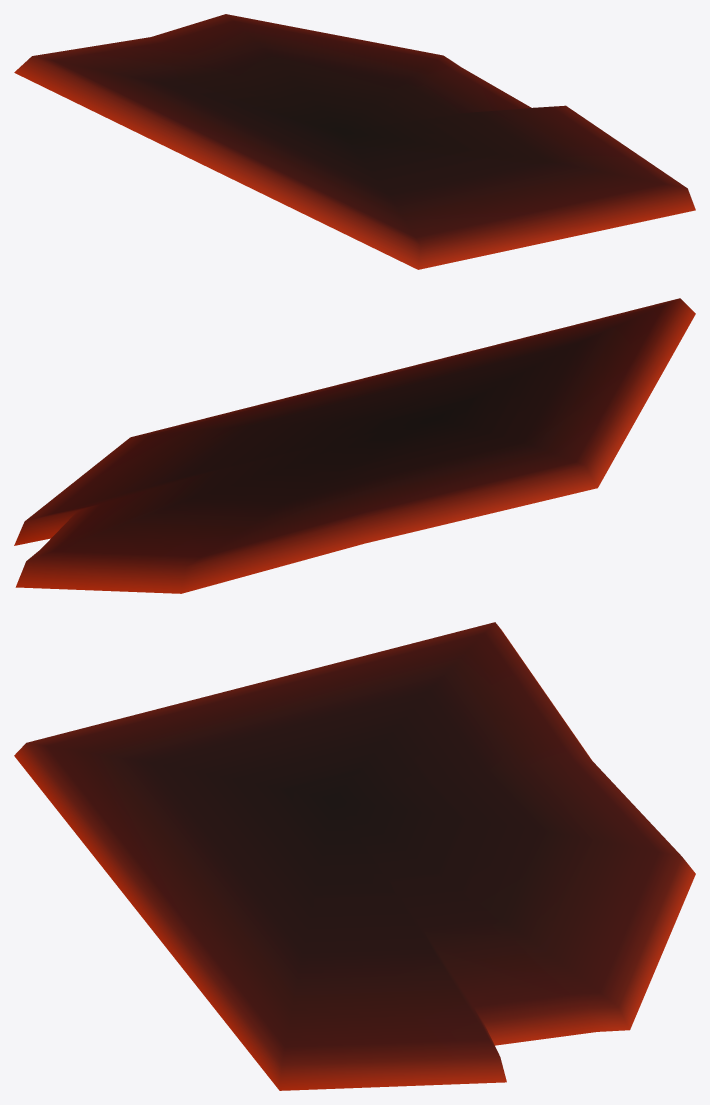
The model's file is raft_18.glb.
3 views of the same model, one above another, from view 1: azimuth 30°, elevation 25°; view 2: azimuth 150°, elevation 25°; view 3: azimuth 270°, elevation 25° (orthographic). The views are drawn at different scales.
Visible parts, largest first — view 1: raft; view 2: raft; view 3: raft.
Boxes of the visible parts, box(x1,y1,x2,y2) form: raft: box(14, 14, 695, 269); raft: box(14, 298, 695, 593); raft: box(14, 622, 695, 1090).
Size of the model in its own units: 1.38 by 0.4835 by 1.46.
